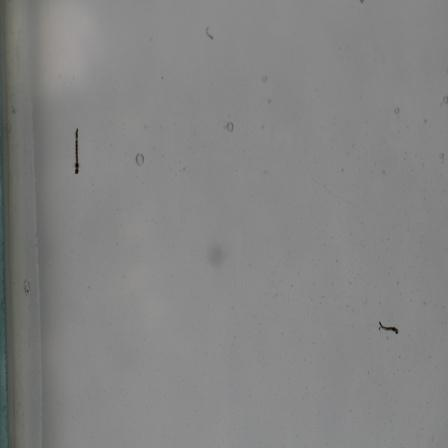Jentik-Nyamuk: (374, 316, 401, 340), (70, 124, 82, 177)
